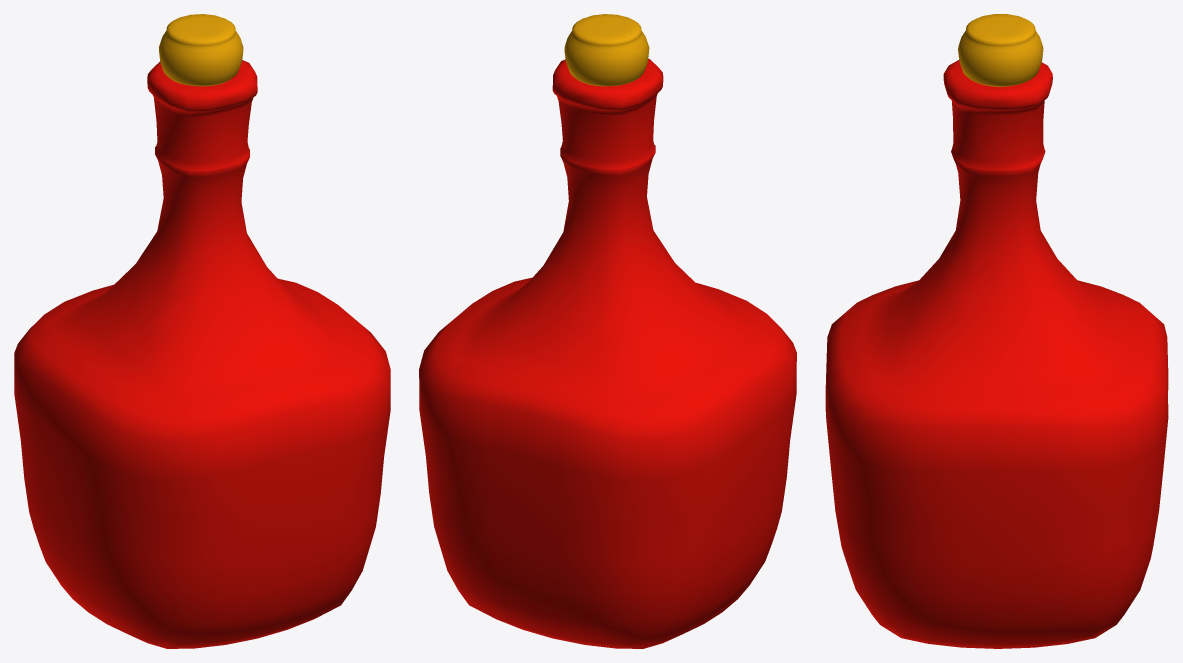
Rendered from PotionB.fbx.
3 renders of one model, left to right at view 1: azimuth 30°, elevation 25°; view 2: azimuth 150°, elevation 25°; view 3: azimuth 270°, elevation 25°, orthographic.
Visible parts, largest first — view 1: PotionA; view 2: PotionA; view 3: PotionA.
Boxes of the visible parts, x1,y1,x2,y2 form: PotionA: (14, 14, 390, 648); PotionA: (419, 14, 796, 648); PotionA: (825, 14, 1168, 648).
Size of the model in its own units: 13.77 by 25.61 by 13.55.
